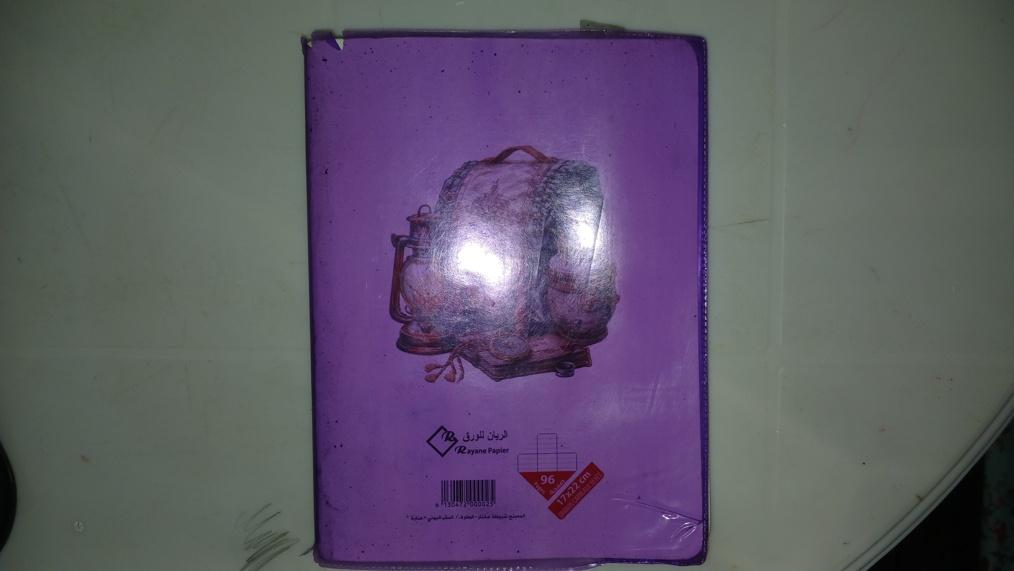notebook: (307, 37, 707, 570)
